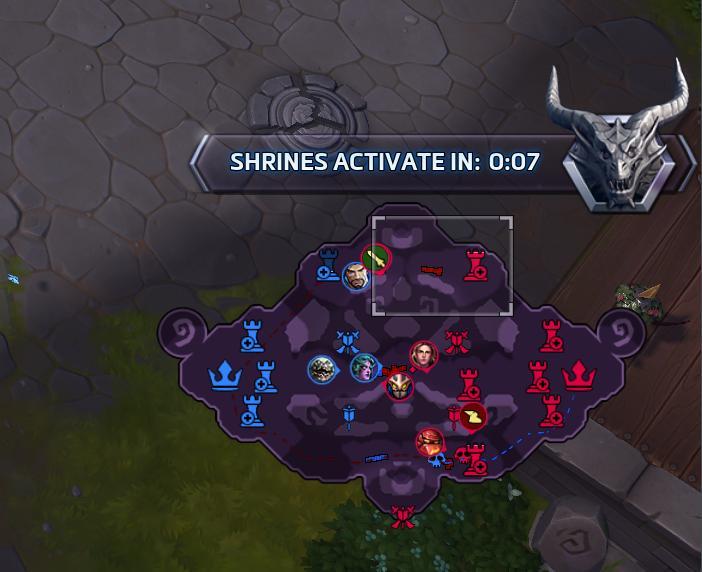blue nexus: (206, 358, 244, 391)
blue player: (307, 354, 338, 384), (349, 352, 379, 382), (340, 261, 369, 292)
blue tower: (314, 245, 340, 282), (239, 393, 266, 428), (238, 319, 265, 353), (252, 358, 278, 393)
red nexus: (561, 357, 596, 391)
red player: (409, 339, 438, 372), (384, 370, 414, 401), (457, 400, 487, 431), (361, 244, 391, 275), (414, 427, 444, 457)
red tower: (462, 442, 491, 477), (538, 393, 565, 429), (538, 317, 564, 353), (462, 248, 488, 282), (524, 359, 550, 393), (457, 367, 482, 401)
